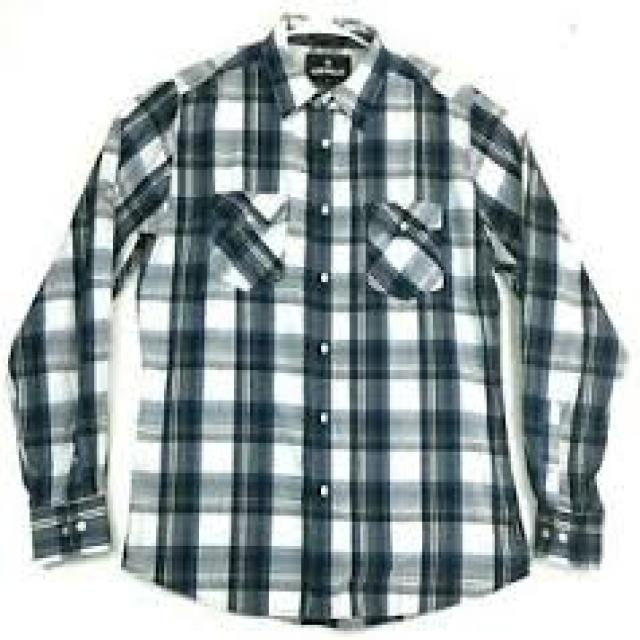plaid: (5, 24, 623, 634)
